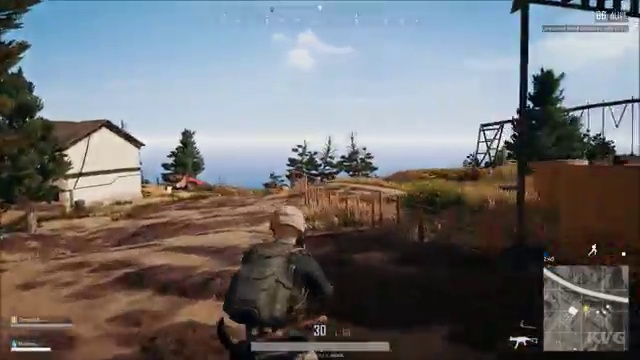Player: (197, 206, 340, 321)
